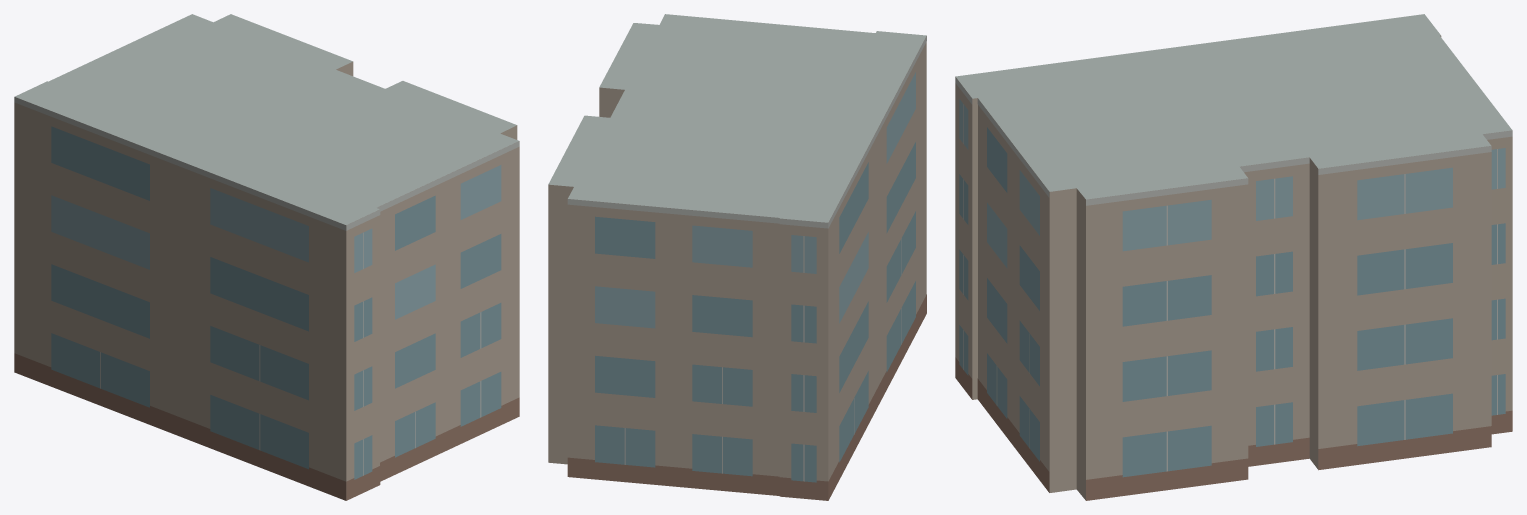
Rendered from survey-upis-32622917.glb.
3 views of the same model, side by side, from view 1: azimuth 30°, elevation 25°; view 2: azimuth 150°, elevation 25°; view 3: azimuth 270°, elevation 25° (orthographic). The views are drawn at different scales.
Visible parts, largest first — view 1: survey-upis-32622917.tmp; view 2: survey-upis-32622917.tmp; view 3: survey-upis-32622917.tmp.
Boxes of the visible parts, x1=… form: survey-upis-32622917.tmp: x1=14, y1=14, x2=519, y2=500; survey-upis-32622917.tmp: x1=548, y1=14, x2=926, y2=500; survey-upis-32622917.tmp: x1=955, y1=14, x2=1512, y2=500.
Bounding box in the file's own units: 15.6 × 11.8 × 19.79.
